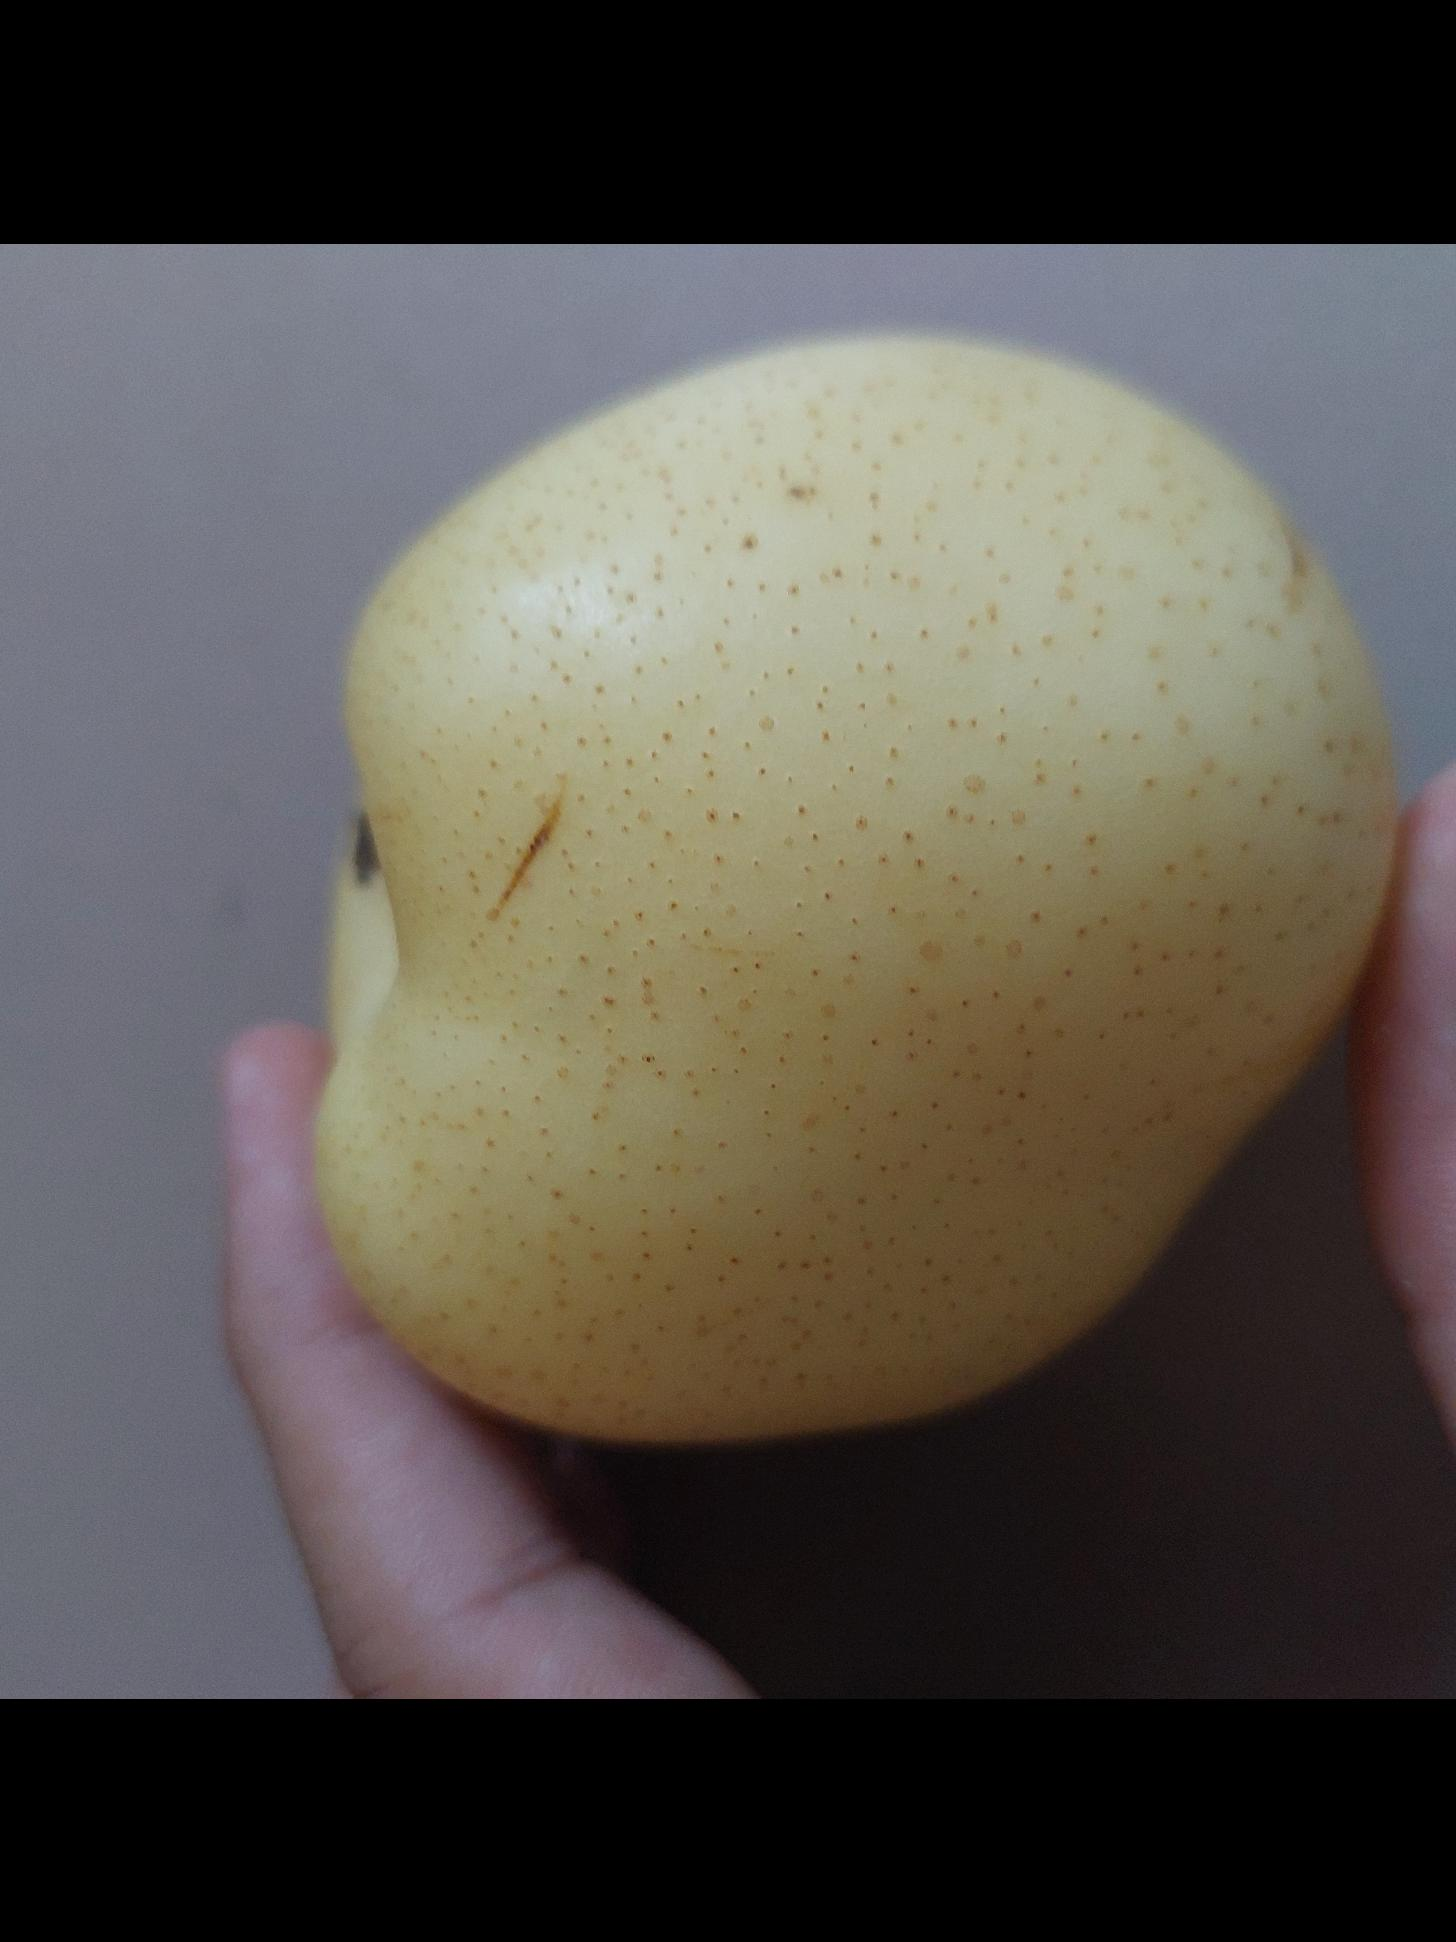Good Pear: (314, 313, 1402, 1454)
